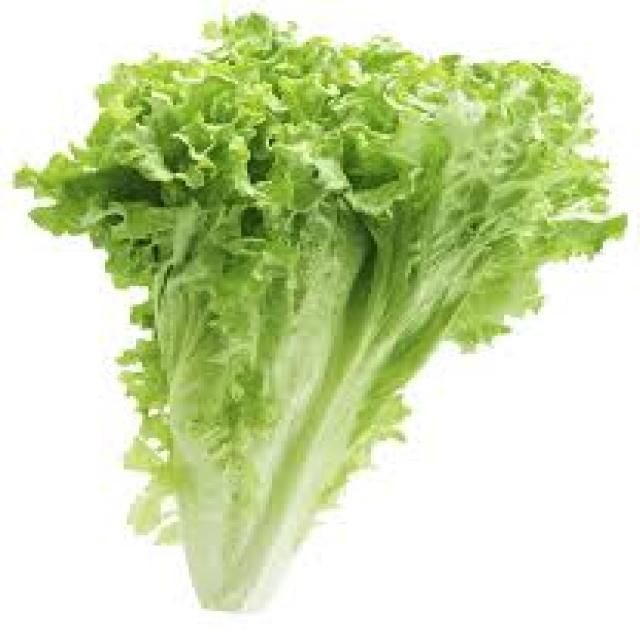lettuce: (9, 5, 628, 614)
